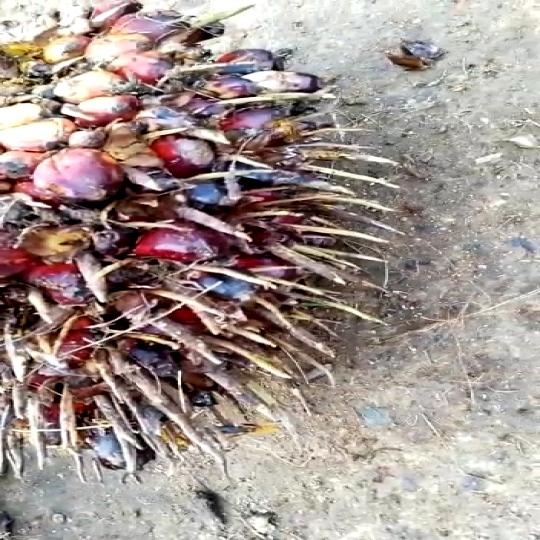terlalu masak: (0, 0, 396, 458)
